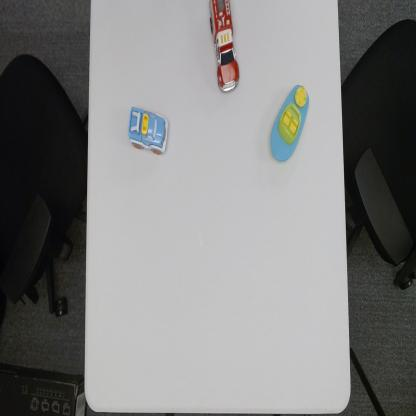Boat: (268, 81, 310, 164)
Car: (127, 106, 170, 156)
Firetruck: (208, 0, 240, 95)
